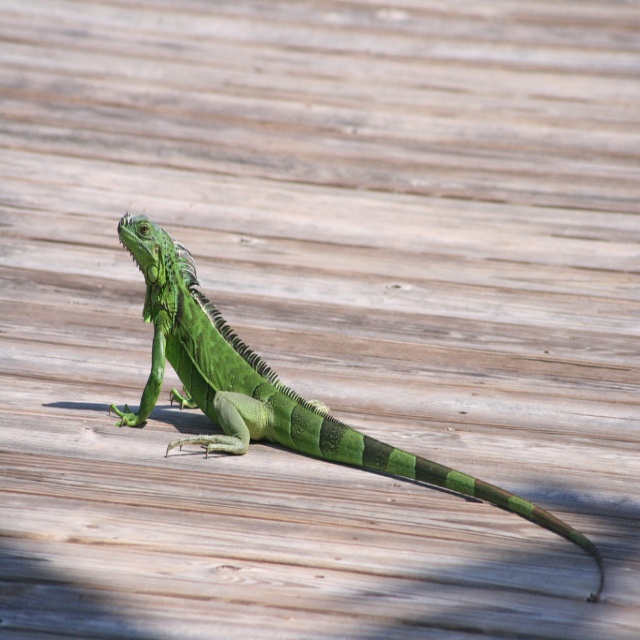Lizard: (143, 206, 597, 563)
